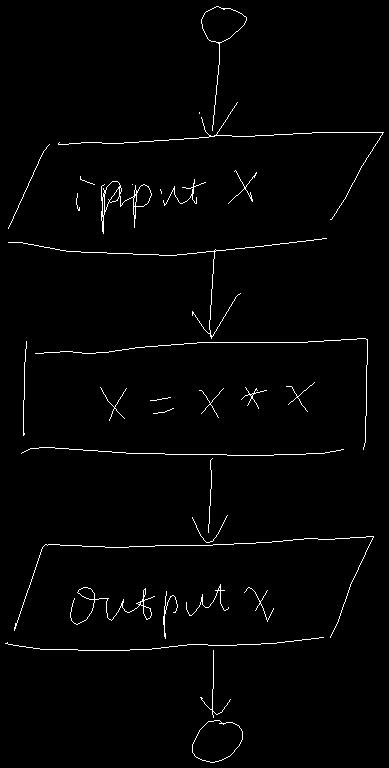arrow: (192, 249, 240, 338), (199, 42, 237, 136), (192, 458, 227, 542), (200, 650, 230, 717)
connection: (192, 720, 242, 762), (201, 6, 246, 42)
data: (8, 132, 383, 255), (5, 536, 373, 650)
process: (21, 338, 367, 455)
text: (76, 170, 256, 233), (70, 584, 273, 638), (100, 382, 314, 420)
